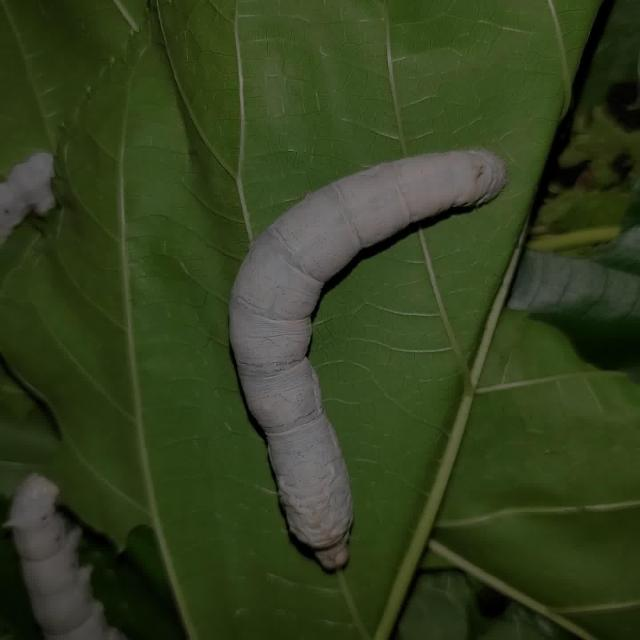Healthy: (216, 131, 516, 581)
